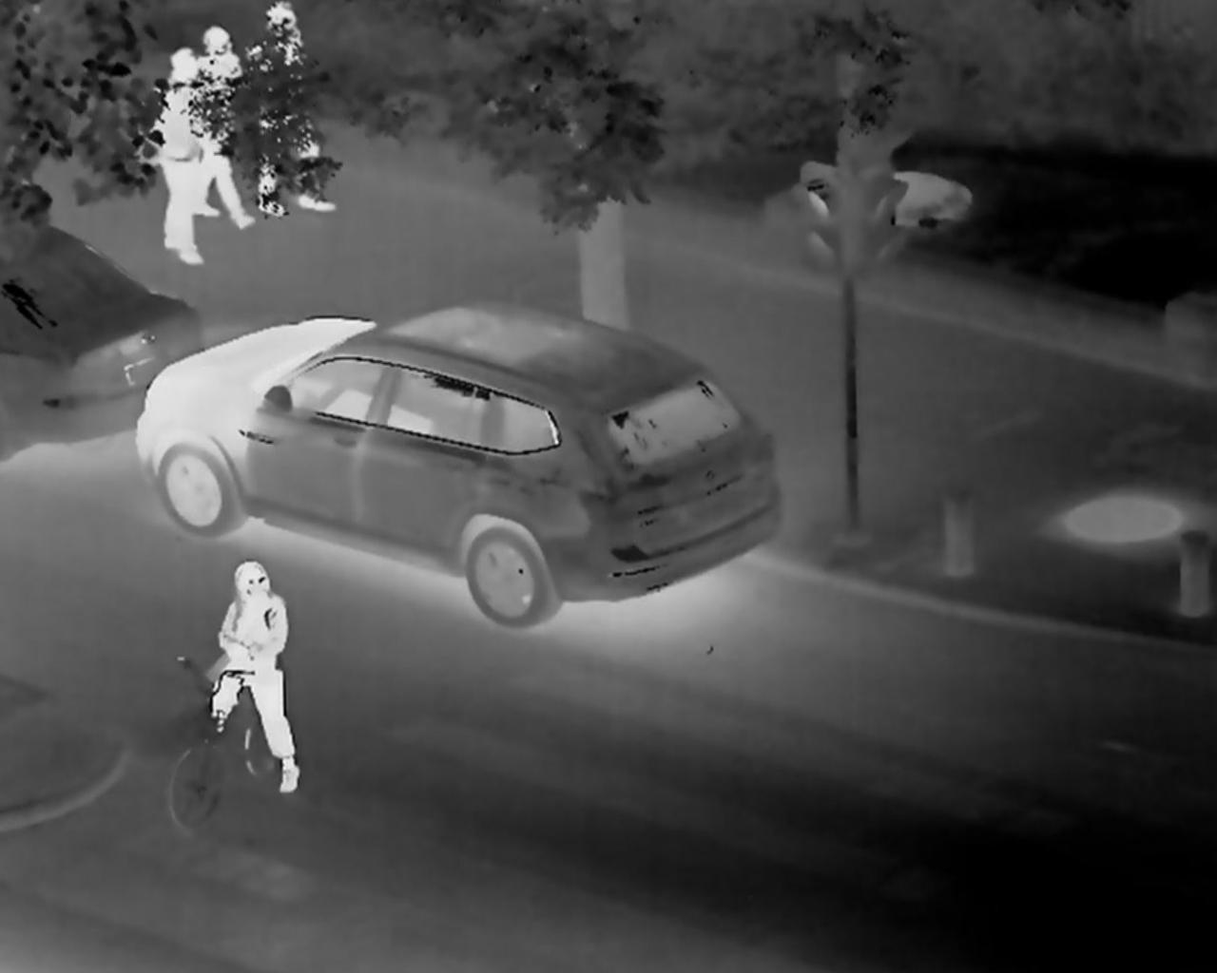person: (206, 554, 307, 794), (257, 5, 335, 221), (189, 19, 258, 233), (150, 46, 211, 270)
